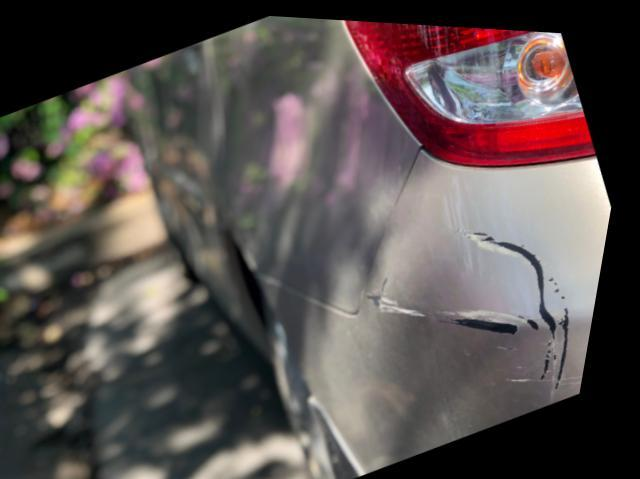scratch: (371, 217, 584, 404)
